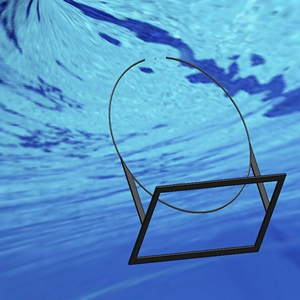circle: (105, 54, 289, 266)
